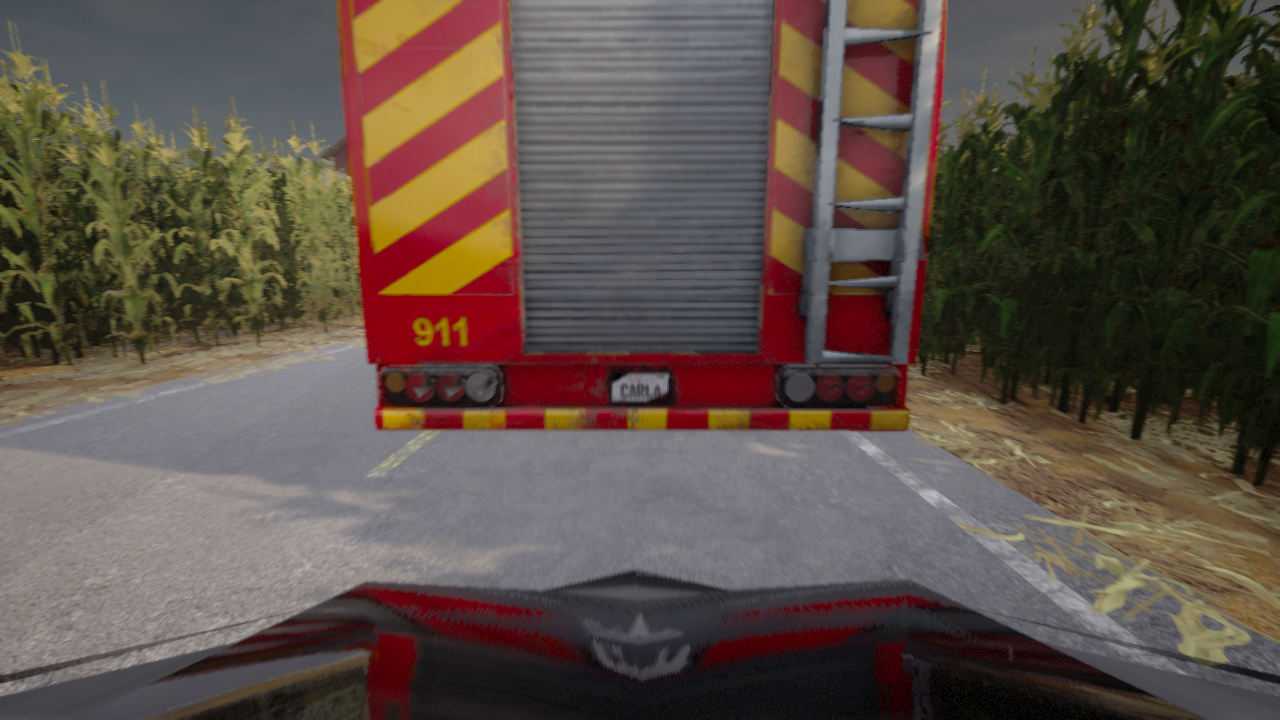cyclist: (337, 0, 947, 429), (0, 569, 1279, 719)
